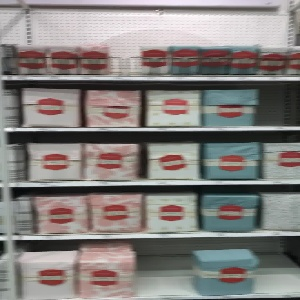void: (135, 236, 196, 298), (255, 234, 300, 294), (108, 3, 141, 78), (254, 81, 300, 129)
